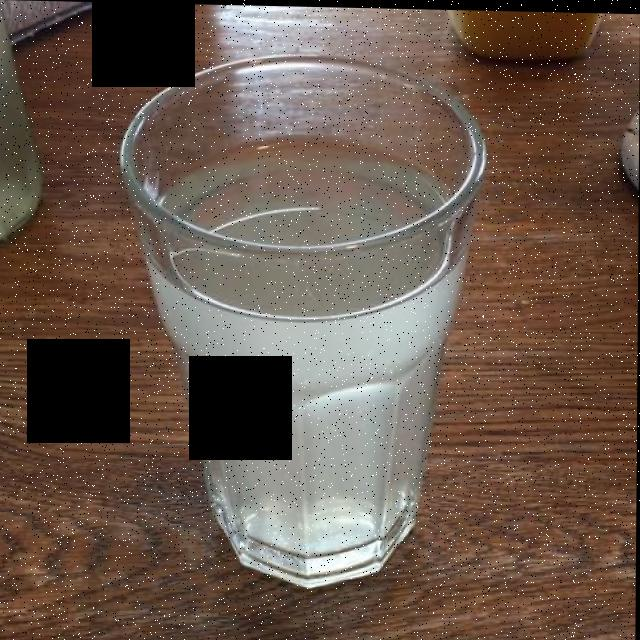kefir-drink: (155, 136, 457, 549)
